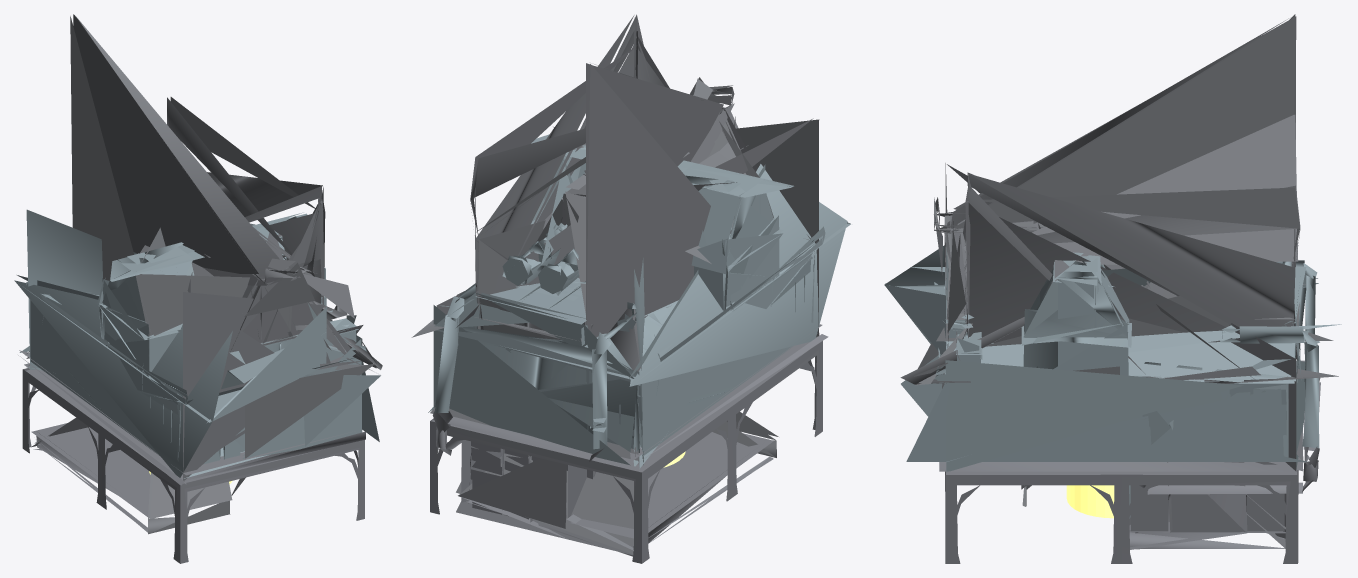
Rendered from infirmary.glb.
3 views of the same model, side by side, from view 1: azimuth 30°, elevation 25°; view 2: azimuth 150°, elevation 25°; view 3: azimuth 270°, elevation 25° (orthographic). The views are drawn at different scales.
Parts seen in each view (by area): view 1: infirmary_Building; view 2: infirmary_Building; view 3: infirmary_Building.
Part boxes in pixels (x1,y1,x2,y2): infirmary_Building: (14, 14, 382, 563); infirmary_Building: (411, 14, 850, 563); infirmary_Building: (884, 14, 1341, 563).
Size of the model in its own units: 10.64 by 19.84 by 17.42.
